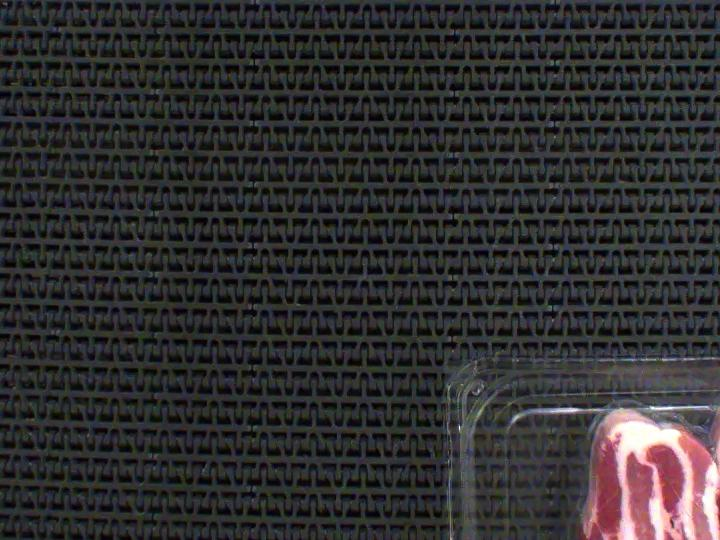unsealed: (547, 352, 720, 478)
